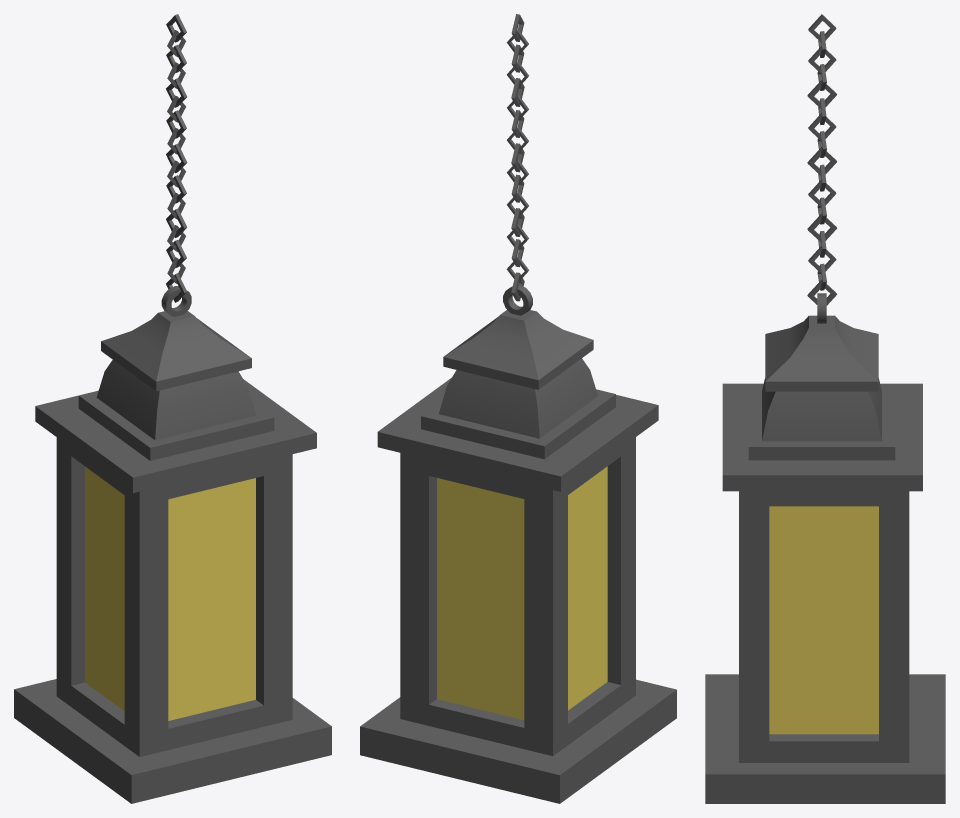
The model's file is Lantern012.fbx.
3 views of the same model, side by side, from view 1: azimuth 30°, elevation 25°; view 2: azimuth 150°, elevation 25°; view 3: azimuth 270°, elevation 25° (orthographic). The views are drawn at different scales.
Parts seen in each view (by area): view 1: Lantern012; view 2: Lantern012; view 3: Lantern012.
Boxes of the visible parts, x1,y1,x2,y2 form: Lantern012: [14, 14, 331, 803]; Lantern012: [360, 14, 676, 803]; Lantern012: [705, 14, 945, 803].
Bounding box in the file's own units: 56.73 × 196 × 57.56.
